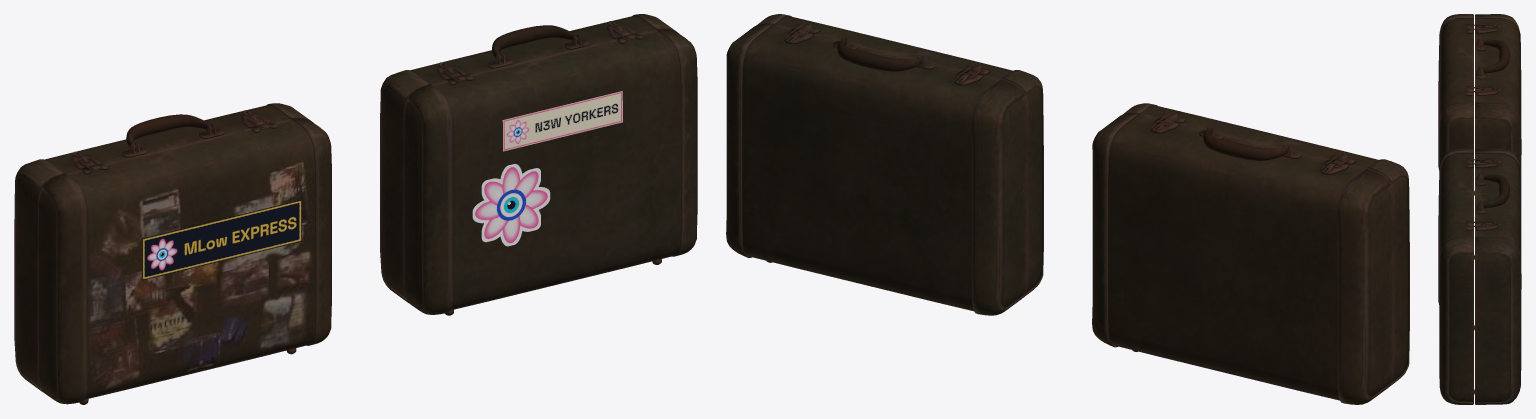
File: nyb_fisherking_suitcase.glb
3 renders of one model, left to right at view 1: azimuth 30°, elevation 25°; view 2: azimuth 150°, elevation 25°; view 3: azimuth 270°, elevation 25°, orthographic. The views are drawn at different scales.
Visible parts, largest first — view 1: vintage_suitcase_01_bottom, stk_lbl_e07167cd05.png, stk_eyeflower_die.png, stk_label_n3w.png; view 2: vintage_suitcase_01_bottom; view 3: vintage_suitcase_01_bottom.
Boxes of the visible parts, <box> form: vintage_suitcase_01_bottom: <box>14,14,697,404</box>; stk_lbl_e07167cd05.png: <box>142,199,301,280</box>; stk_eyeflower_die.png: <box>472,164,550,246</box>; stk_label_n3w.png: <box>502,91,622,151</box>; vintage_suitcase_01_bottom: <box>726,14,1409,404</box>; vintage_suitcase_01_bottom: <box>1438,14,1521,404</box>.
Bounding box in the file's own units: 1.61 × 0.5679 × 0.2392.
5 materials, 5 textured.
